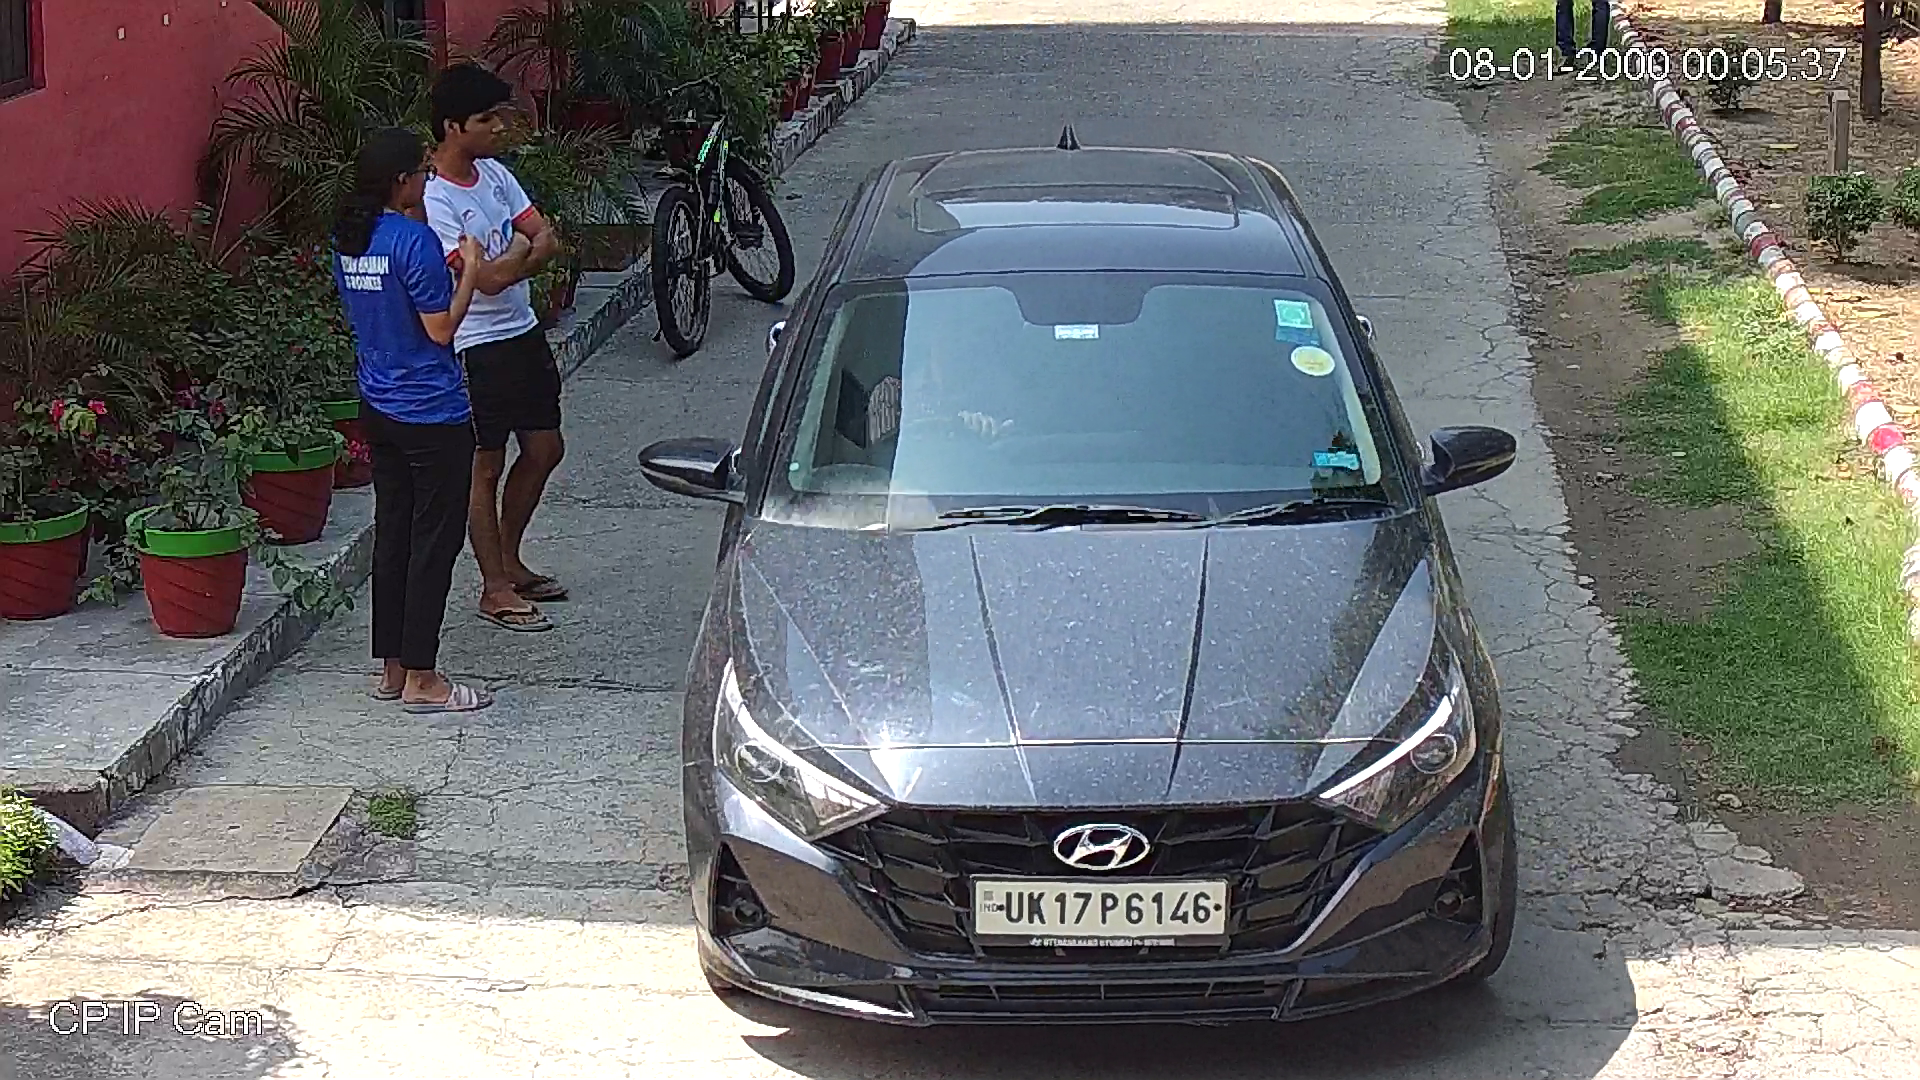plate: (965, 871, 1236, 949)
